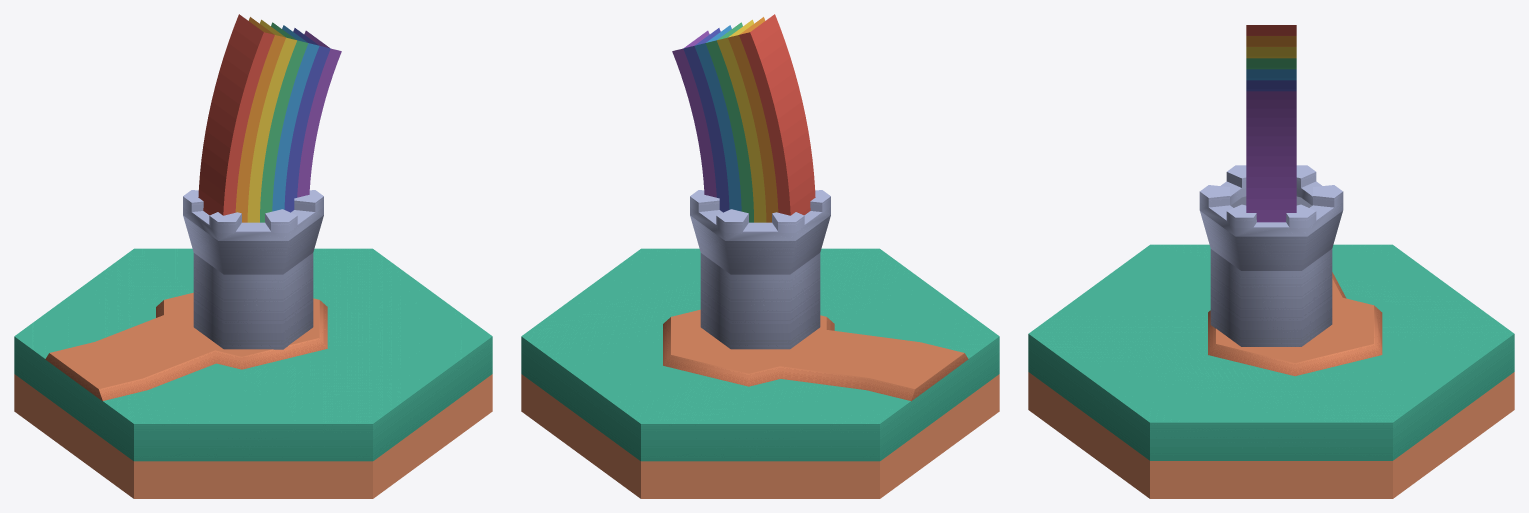
Rendered from grass-path-wall-tower-rainbow.glb.
The picture shows the model from 3 angles, left to right: view 1: azimuth 30°, elevation 25°; view 2: azimuth 150°, elevation 25°; view 3: azimuth 270°, elevation 25°; orthographic projection.
Parts seen in each view (by area): view 1: grass, rainbow, unit-wall-tower, path-start; view 2: grass, rainbow, unit-wall-tower, path-start; view 3: grass, unit-wall-tower, rainbow, path-start.
Part boxes in pixels (<box>): grass: <box>14,248,492,498</box>; rainbow: <box>198,14,341,222</box>; unit-wall-tower: <box>183,190,323,349</box>; path-start: <box>45,292,327,401</box>; grass: <box>521,248,999,498</box>; rainbow: <box>672,14,815,222</box>; unit-wall-tower: <box>690,190,830,349</box>; path-start: <box>663,309,968,401</box>; grass: <box>1028,244,1514,498</box>; unit-wall-tower: <box>1199,165,1343,346</box>; rainbow: <box>1246,25,1296,222</box>; path-start: <box>1208,272,1382,376</box>.
Size of the model in its own units: 1 by 1.04 by 1.15.
8 materials, 1 textured.
